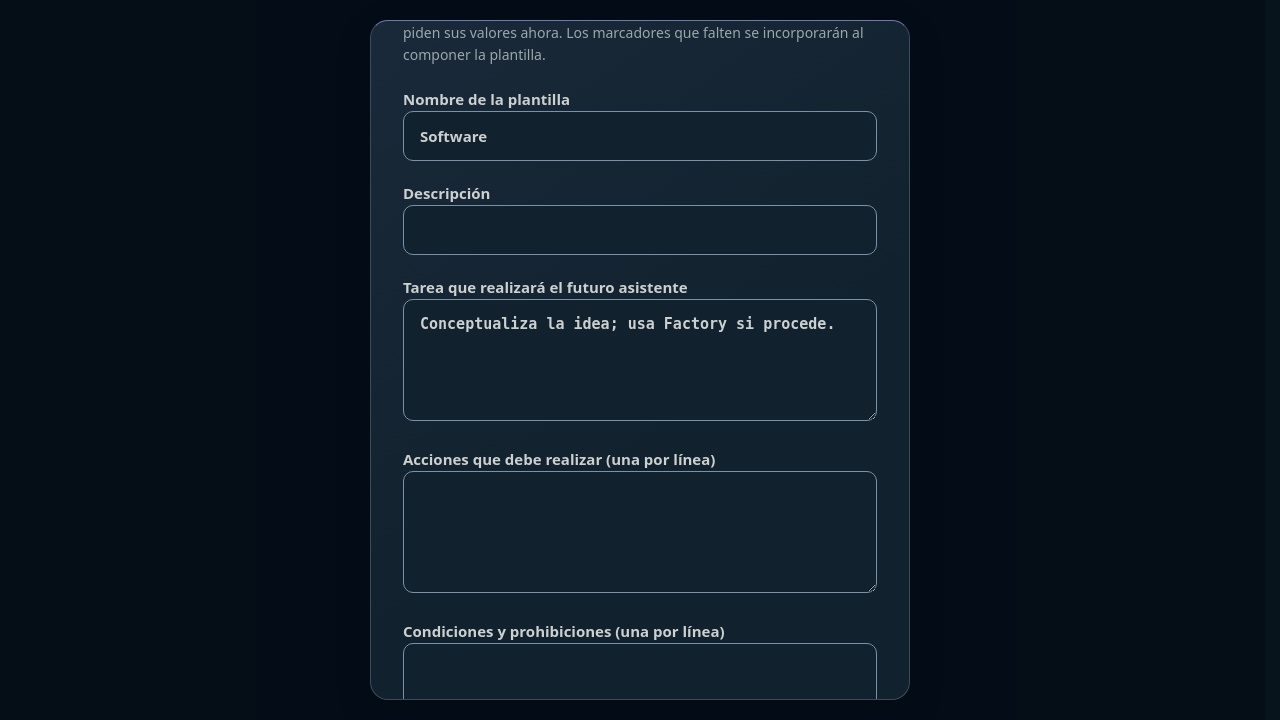
requires explicit reference roles and review, sends the edited task only, and never claims AI semantic acceptance
Later steps or results of the test are not shown.
(page scrolled)
Replace the text in the text box labelled "Tarea que realizará el futuro asistente" with "Conceptualiza <nombre_proyecto>. Aplica Factory.": (640, 360) x1=403 y1=299 x2=877 y2=421
(page scrolled)
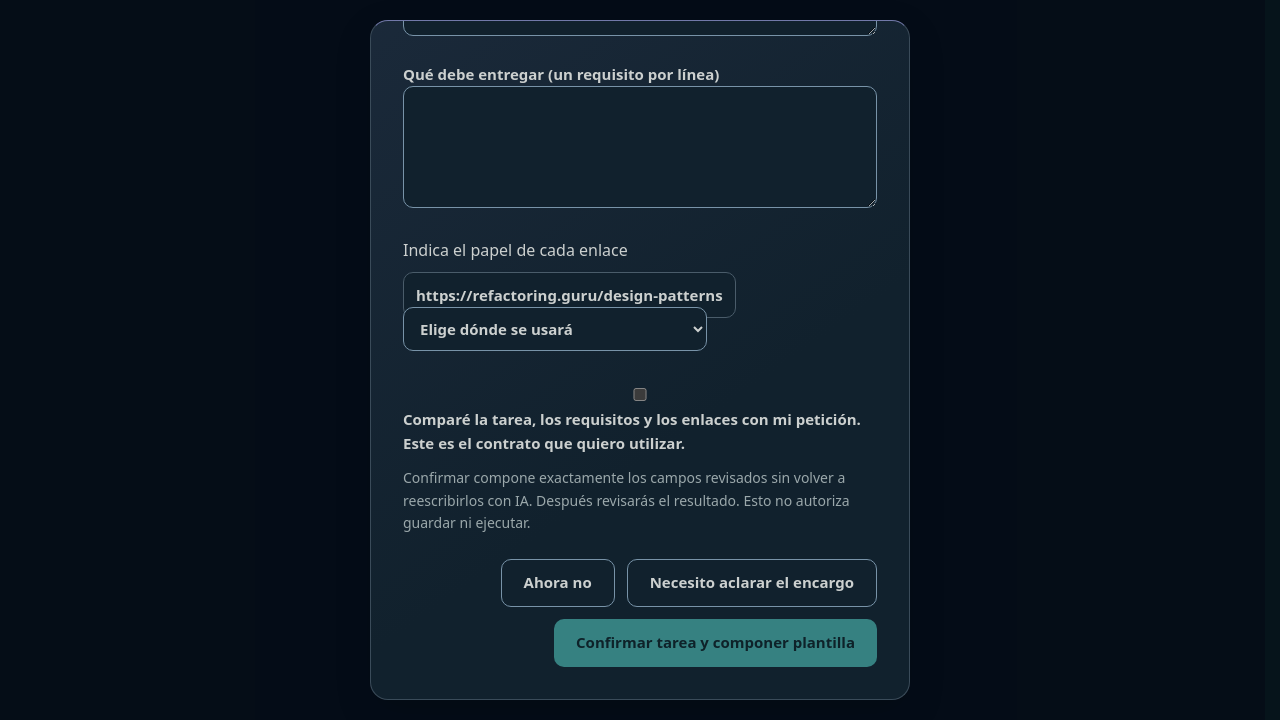
Click the checkbox: click(640, 395) x1=403 y1=388 x2=877 y2=401
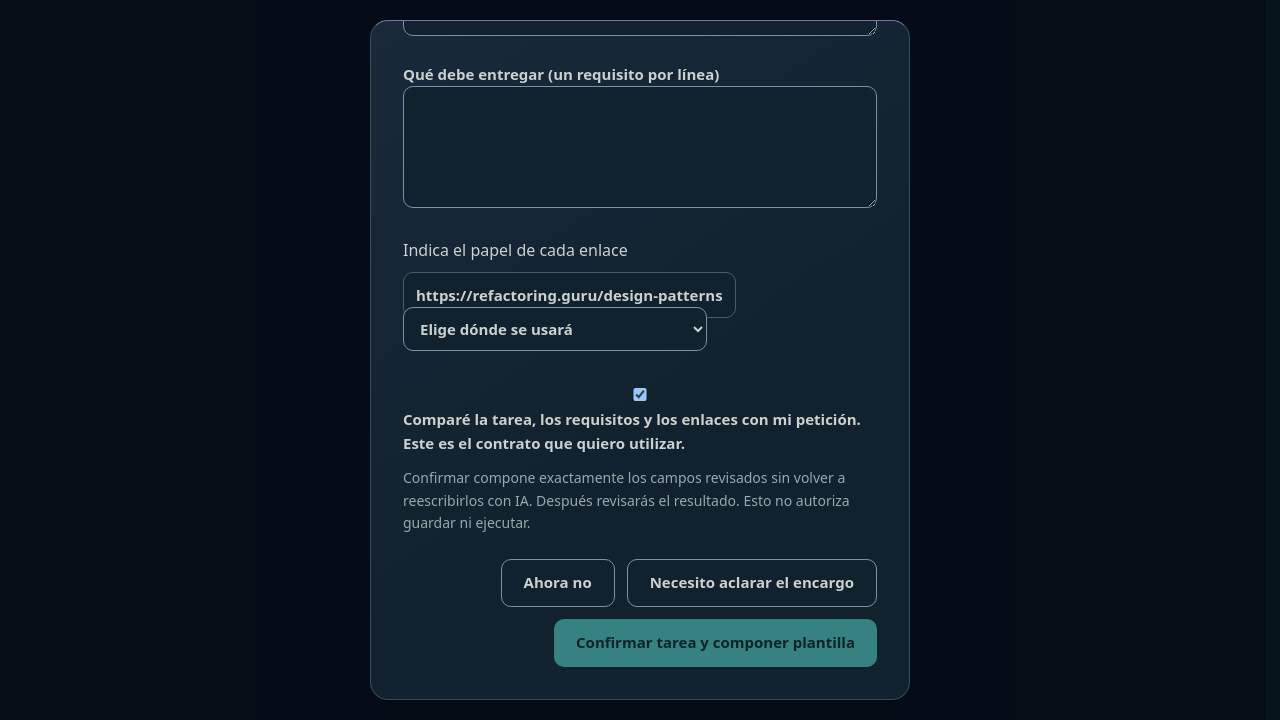
expect the button "Confirmar tarea y componer plantilla" is disabled: met, box x1=554 y1=618 x2=877 y2=666
Select "El futuro asistente lo necesita" in the dropdown labelled "https://refactoring.guru/design-patterns": (555, 329) x1=403 y1=307 x2=707 y2=351
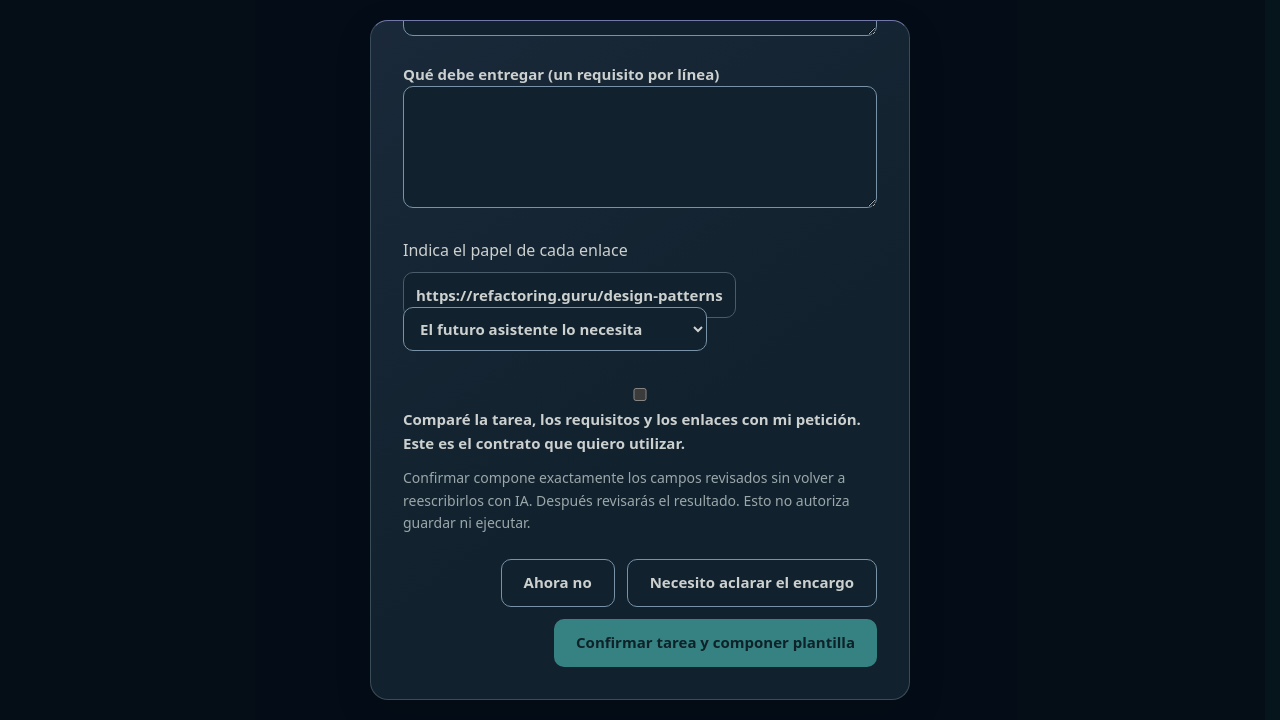
expect the checkbox is not checked: met, box x1=403 y1=388 x2=877 y2=401
